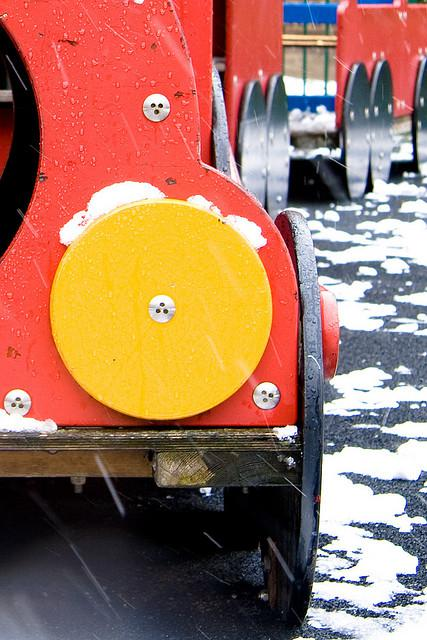Train: (4, 0, 427, 629)
